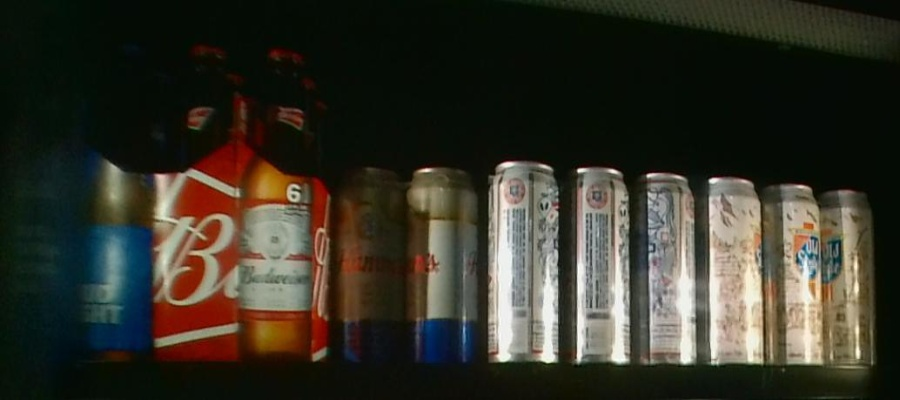bottle: (152, 39, 331, 364), (3, 39, 149, 358), (490, 157, 695, 364), (702, 173, 877, 366), (335, 164, 483, 358)
